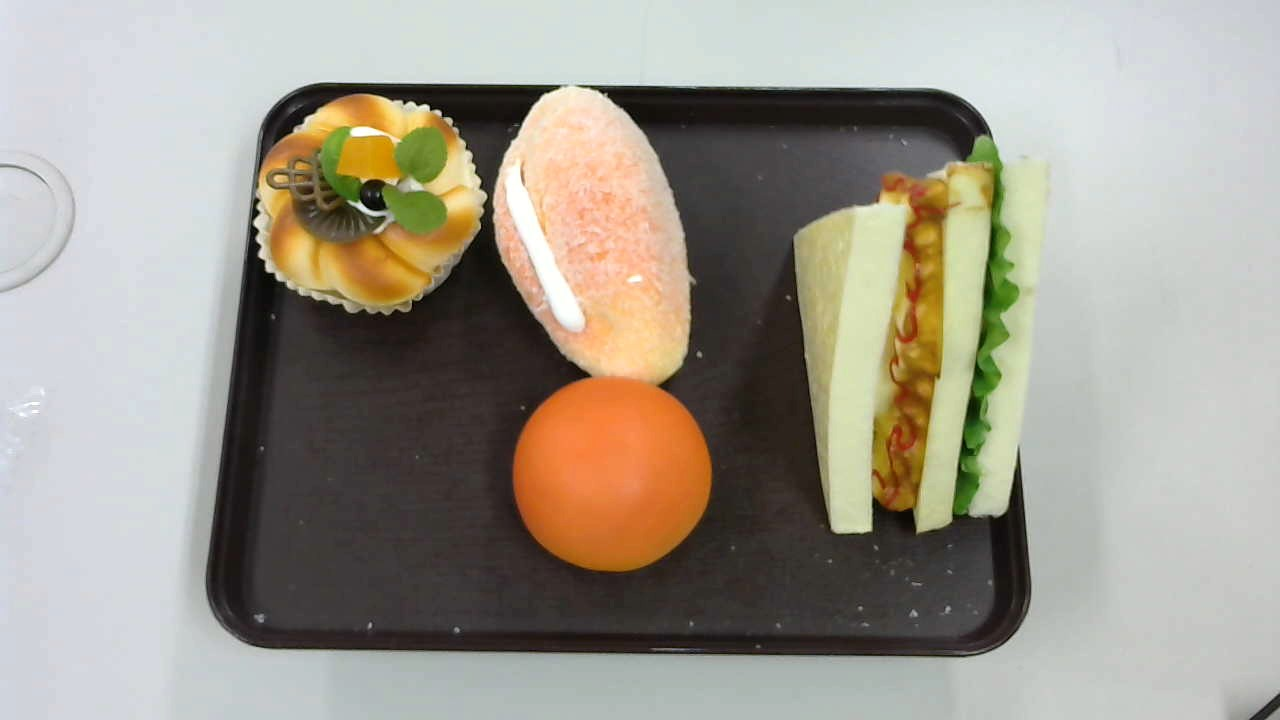bun: (512, 376, 713, 574)
coconut: (493, 85, 694, 387)
fruit tart: (254, 89, 487, 314)
sandwich: (792, 135, 1061, 538)
